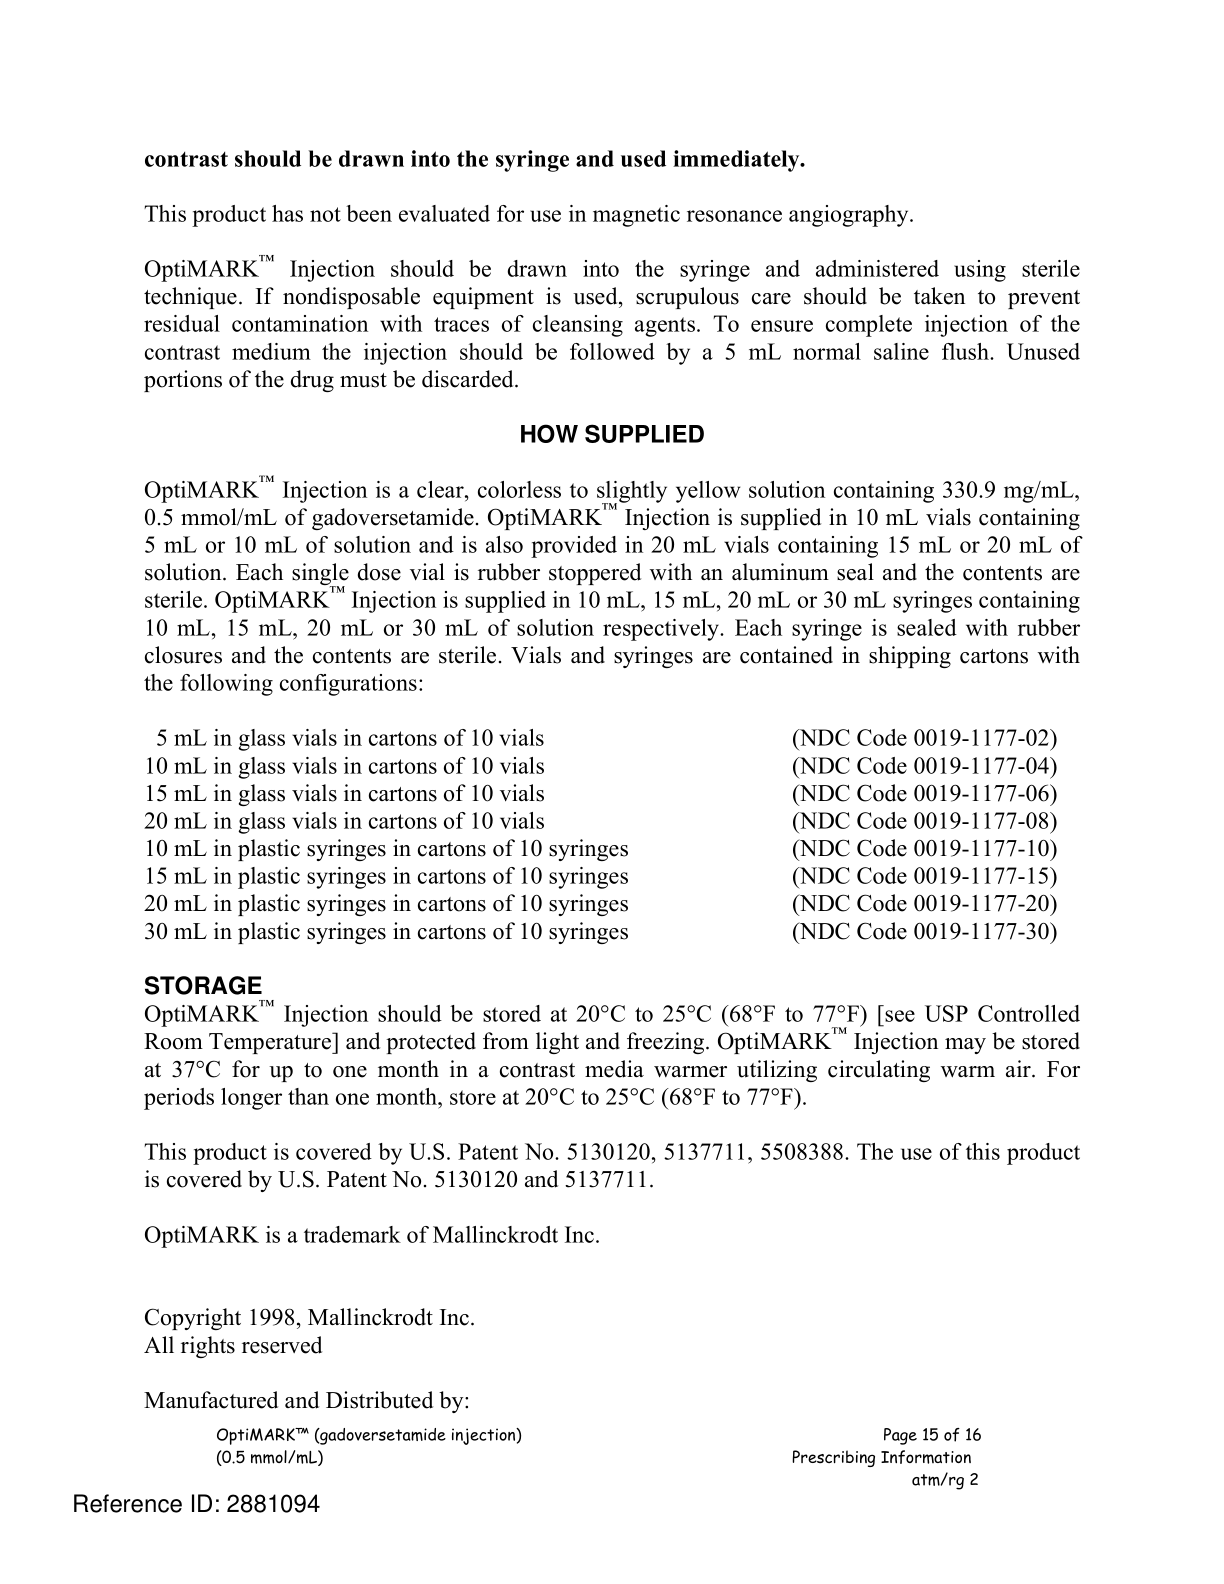nolines: (139, 721, 1061, 948)
